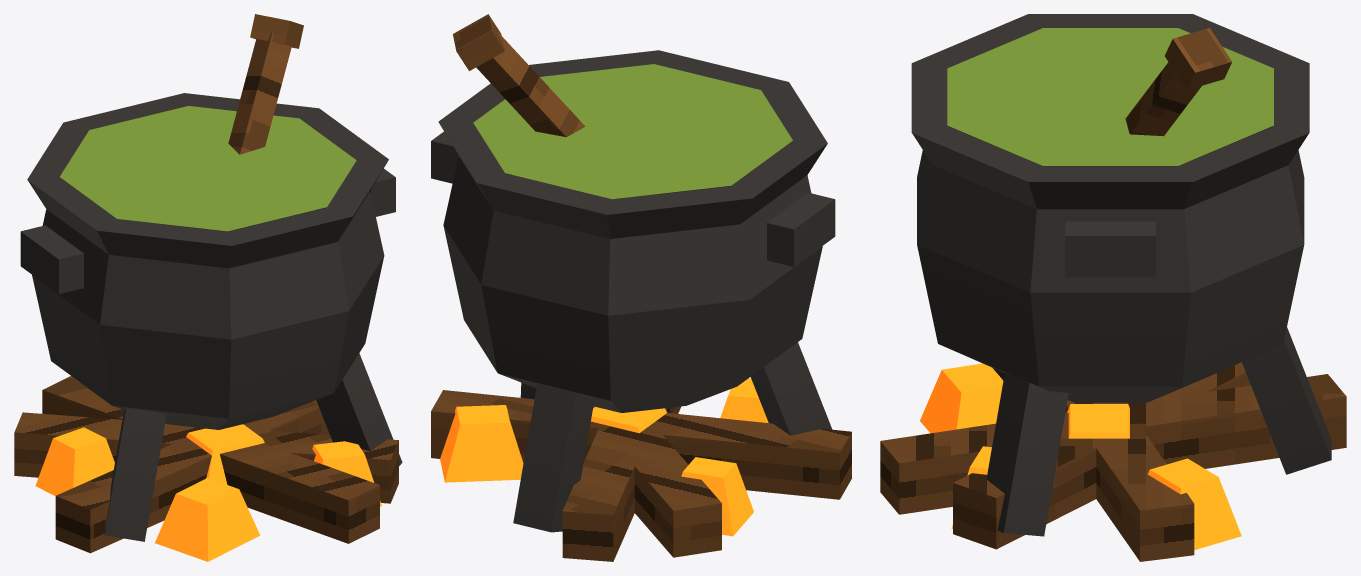
The model's file is int_cauldron.glb.
3 renders of one model, left to right at view 1: azimuth 30°, elevation 25°; view 2: azimuth 150°, elevation 25°; view 3: azimuth 270°, elevation 25°, orthographic. The views are drawn at different scales.
Parts seen in each view (by area): view 1: int_cauldron, glow_embers; view 2: int_cauldron, glow_embers; view 3: int_cauldron, glow_embers.
Part boxes in pixels (x1=…): int_cauldron: x1=14, y1=14, x2=402, y2=553; glow_embers: x1=35, y1=424, x2=381, y2=561; int_cauldron: x1=431, y1=14, x2=851, y2=561; glow_embers: x1=440, y1=378, x2=768, y2=536; int_cauldron: x1=880, y1=14, x2=1346, y2=561; glow_embers: x1=920, y1=363, x2=1241, y2=549.
Bounding box in the file's own units: 0.8191 × 0.9567 × 0.8234.
4 materials, 1 textured.
